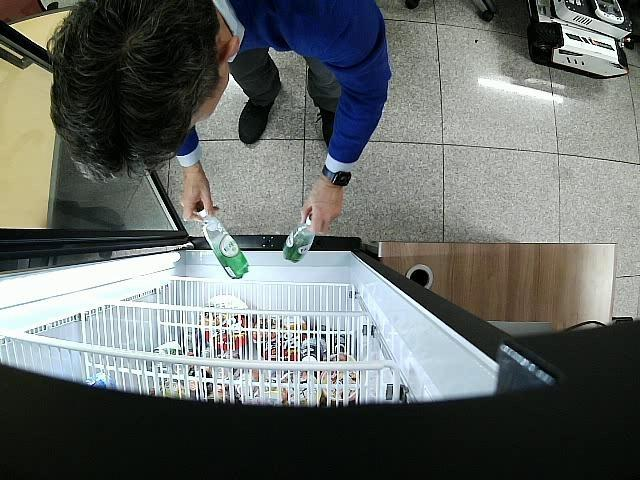18_trevi: (198, 210, 249, 280), (283, 214, 314, 262)
